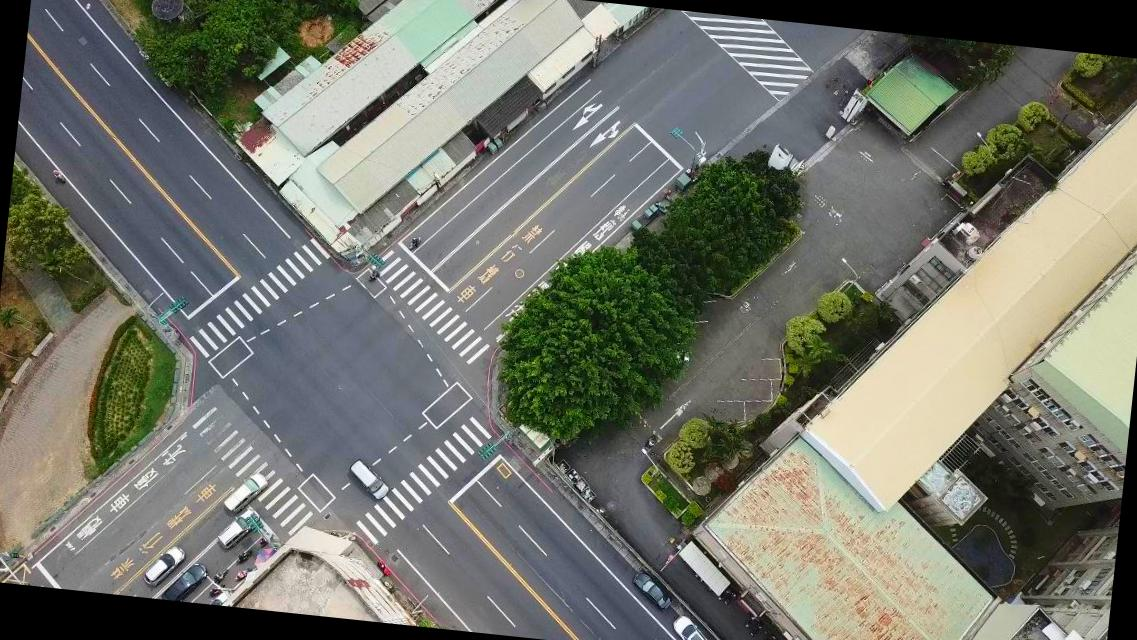vehicle: (214, 503, 265, 554), (221, 468, 268, 517), (344, 455, 393, 501), (162, 560, 208, 604), (628, 569, 674, 612), (143, 543, 185, 589), (667, 613, 717, 639)
